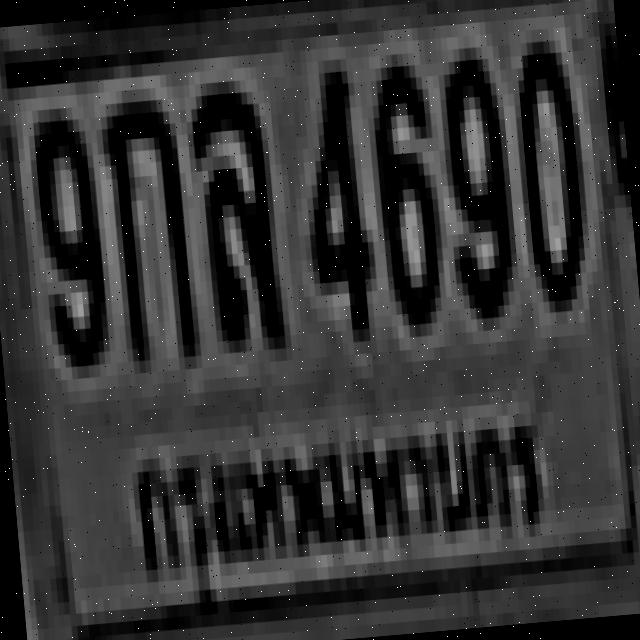0: (508, 26, 588, 302)
10GorGai: (98, 86, 195, 362)
4: (289, 58, 369, 333)
45LorLing: (182, 72, 278, 336)
6: (362, 52, 442, 327)
9: (434, 33, 514, 308), (26, 106, 104, 356)
Bangkok: (119, 408, 550, 584)
